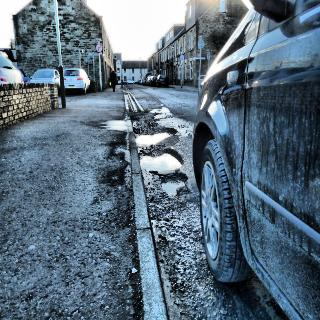pothole: (138, 148, 187, 174), (136, 126, 178, 148), (160, 175, 189, 198)
